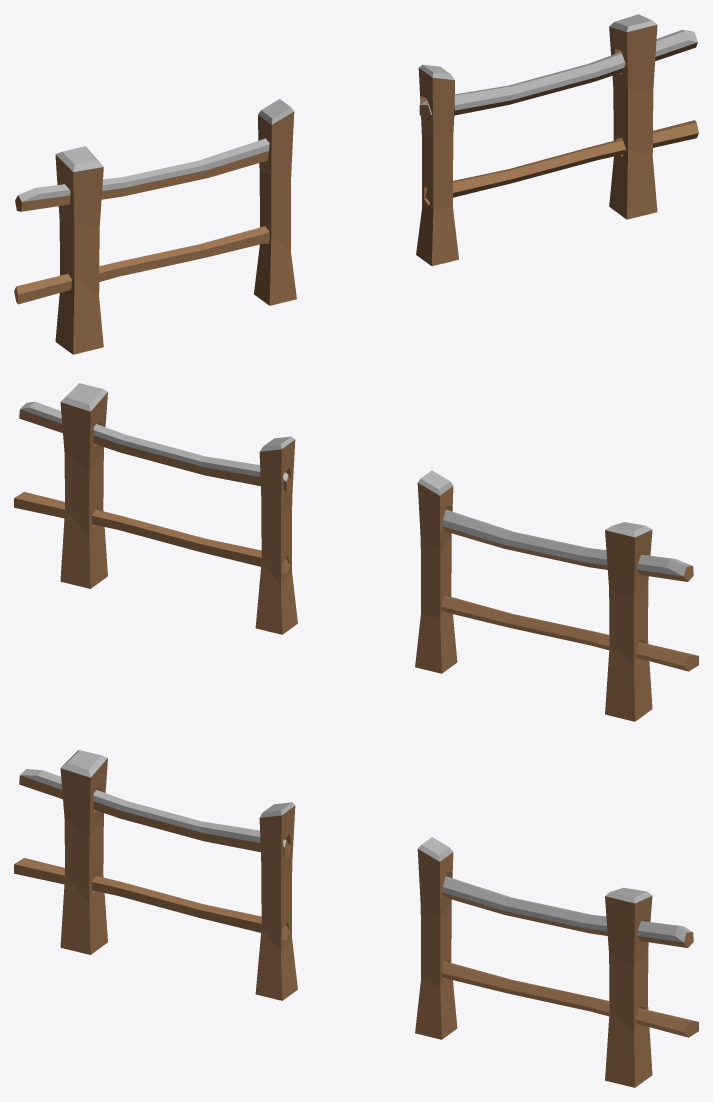
The model's file is Fence_1 Gate Winter.fbx.
3 renders of one model, top to bottom at view 1: azimuth 30°, elevation 25°; view 2: azimuth 150°, elevation 25°; view 3: azimuth 330°, elevation 25°, orthographic.
Parts seen in each view (by area): view 1: FenceGateWinter_mesh; view 2: FenceGateWinter_mesh; view 3: FenceGateWinter_mesh.
Part boxes in pixels (x1=…): FenceGateWinter_mesh: x1=14, y1=14, x2=698, y2=354; FenceGateWinter_mesh: x1=14, y1=383, x2=698, y2=721; FenceGateWinter_mesh: x1=14, y1=750, x2=698, y2=1087.
Size of the model in its own units: 426 by 113 by 19.02.
